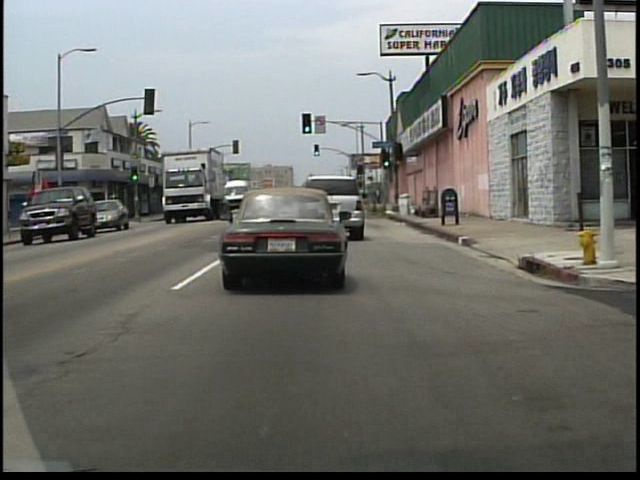person: (66, 202, 78, 229), (374, 187, 384, 206)
